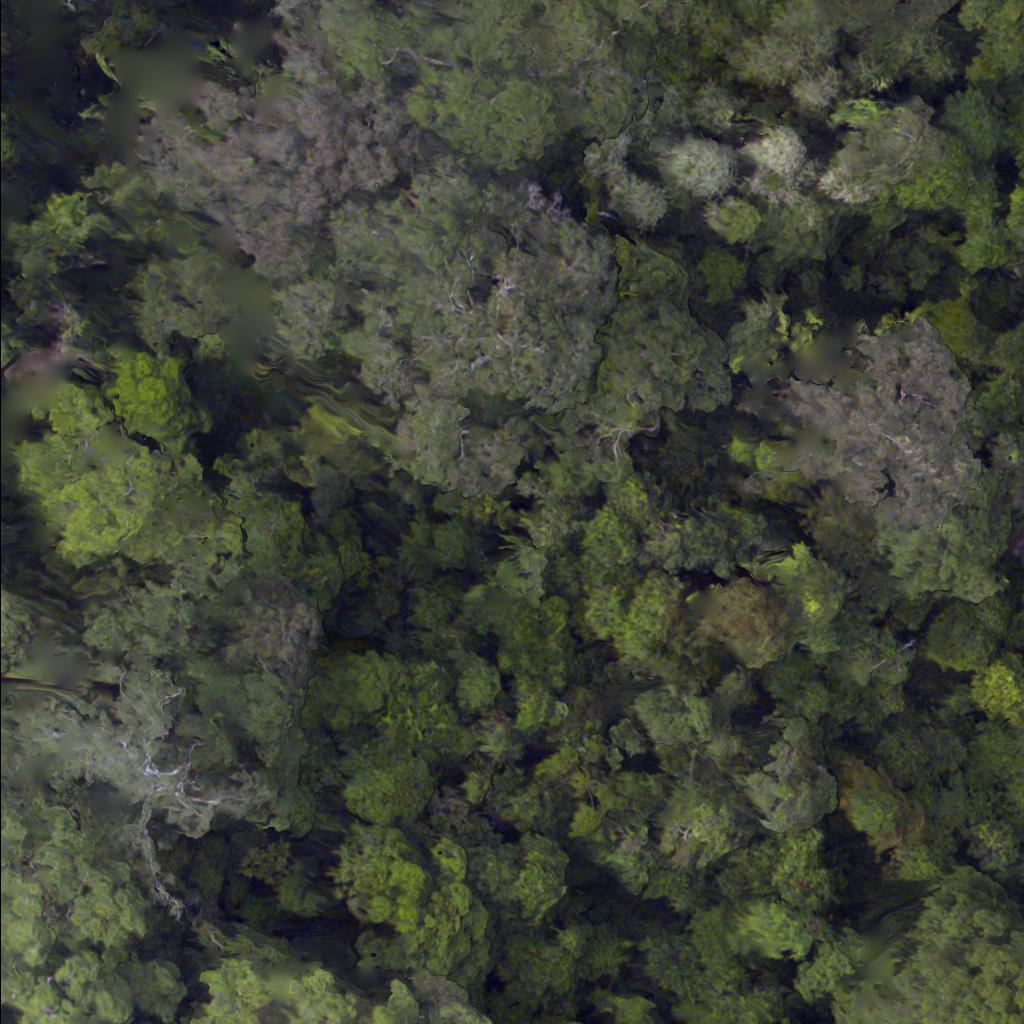crown: (845, 876, 1023, 1023)
